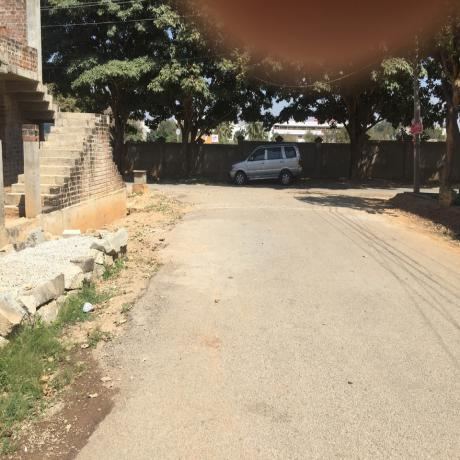Speed Bump: (182, 205, 404, 217)
